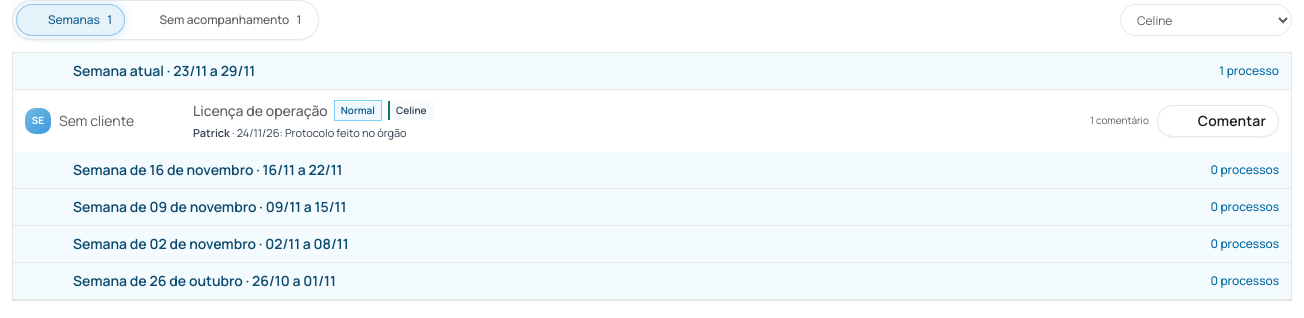
Test: FollowUpView › filters by person
The image size is (1304, 318).
Select "Gabi" in the dropdown named "Filtrar acompanhamento por responsável": x=1206, y=20 [1120, 4, 1292, 36]
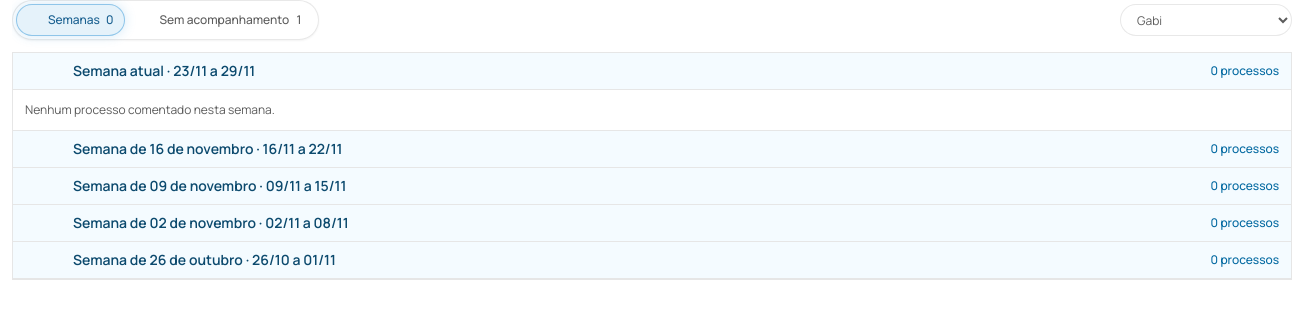
Click the button "Sem acompanhamento 1": x=221, y=20 [127, 4, 315, 36]
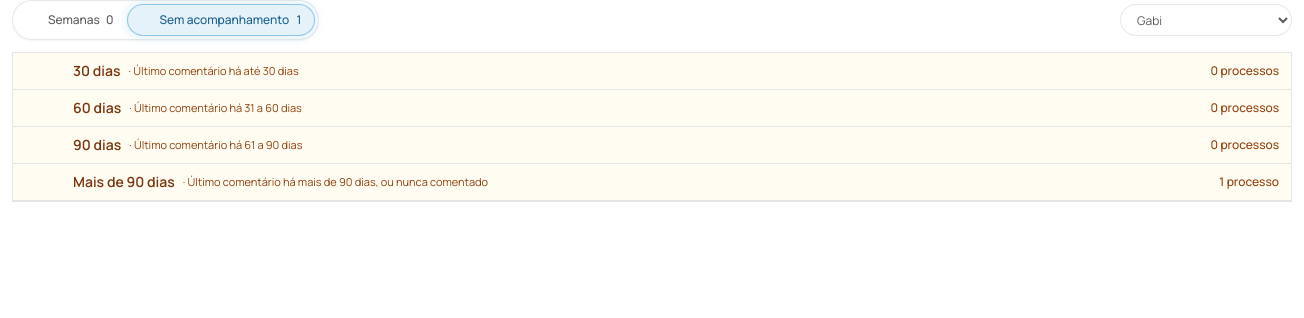
Click the button "Mais de 90 dias": x=124, y=182 [13, 164, 1291, 201]
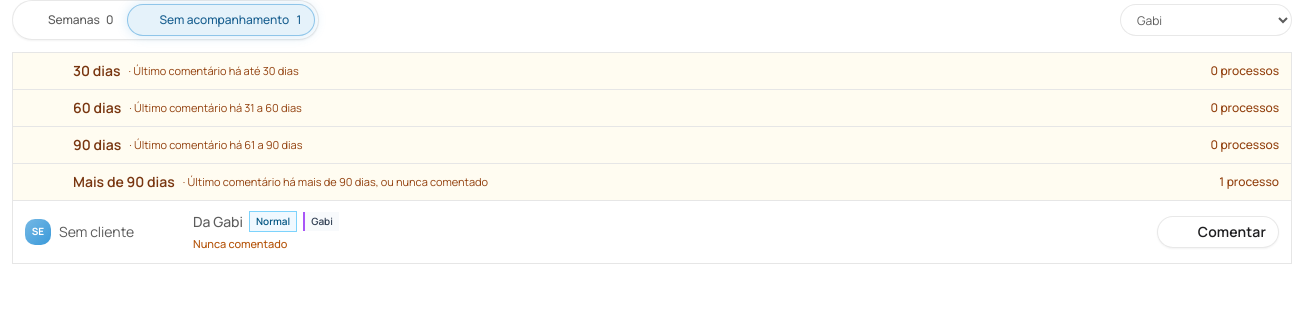
Expected: the text "Da Gabi" is shown, [193, 212, 243, 232]
